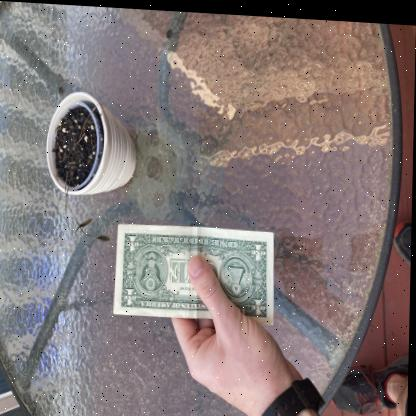one-back: (111, 221, 275, 325)
